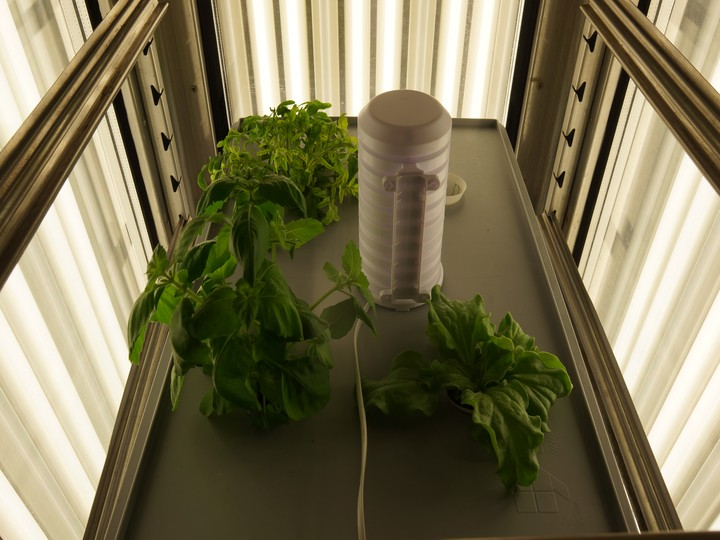basilic_blue_spice: (99, 174, 382, 449)
ficoide_glaciale: (359, 287, 578, 498)
roquette_sauvage_red_veined: (186, 97, 362, 180)
